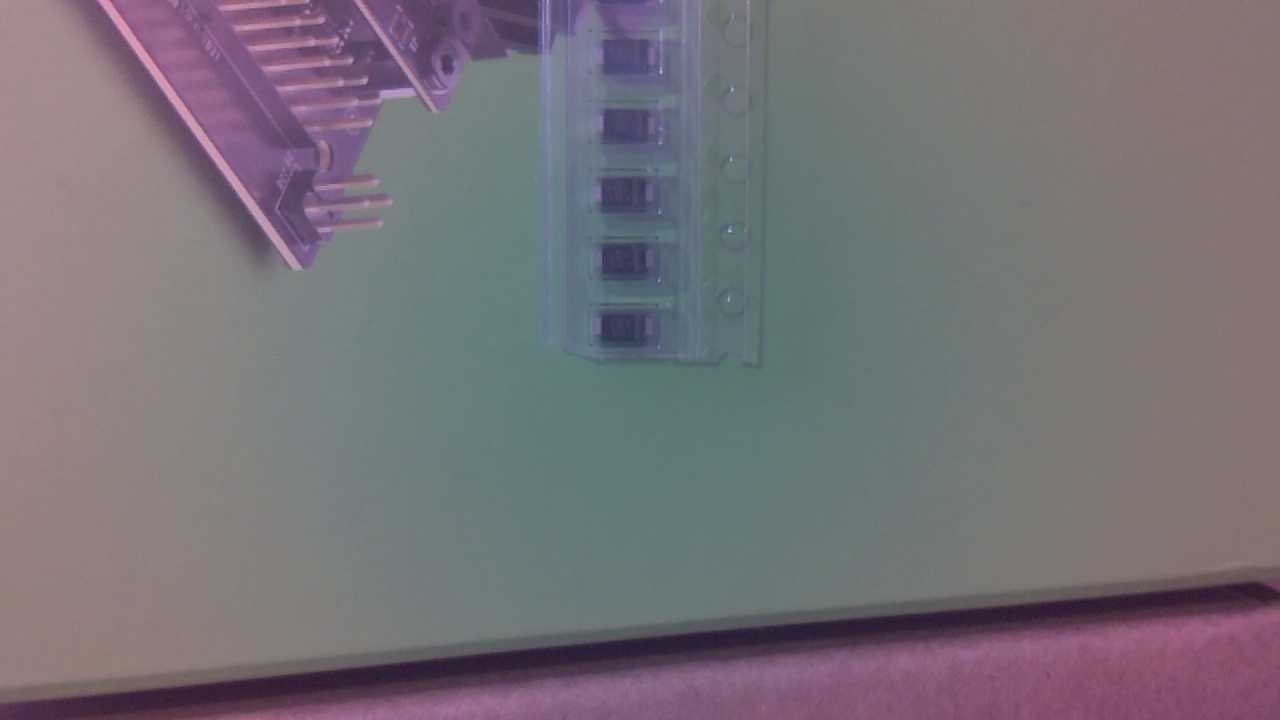Diode: (598, 39, 661, 80), (596, 115, 665, 149), (598, 314, 663, 349), (595, 182, 659, 217), (597, 251, 662, 280)
